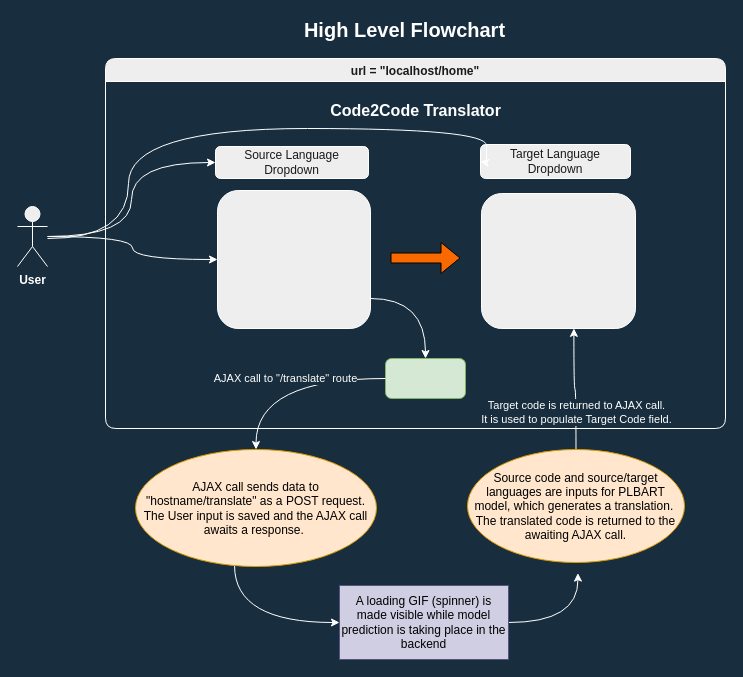
Some shapes in this 743 by 677 pixel diagram are drawn without their labels. The shapes that lost their labels are listed below. From the top down, each one's box as (x1, y1, x2, y2) in pixels, then its label:
(216, 190, 370, 328): Source Code
(480, 192, 636, 328): Target Code
(384, 358, 466, 398): SUBMIT
